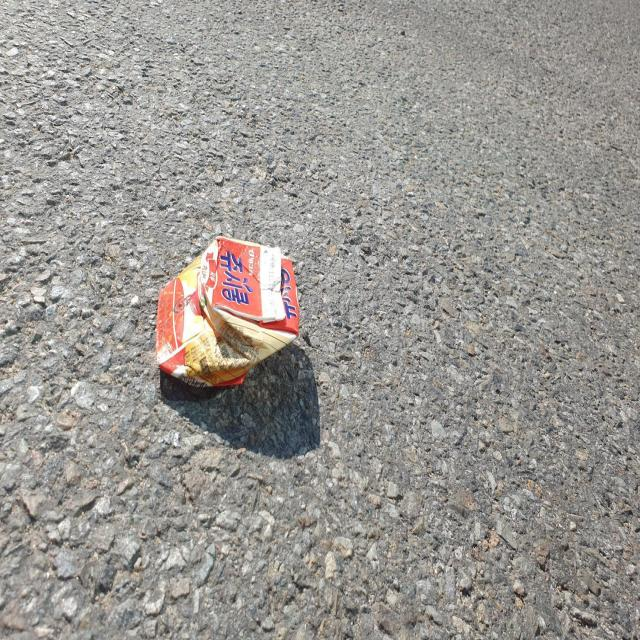paperpack: (156, 235, 299, 387)
